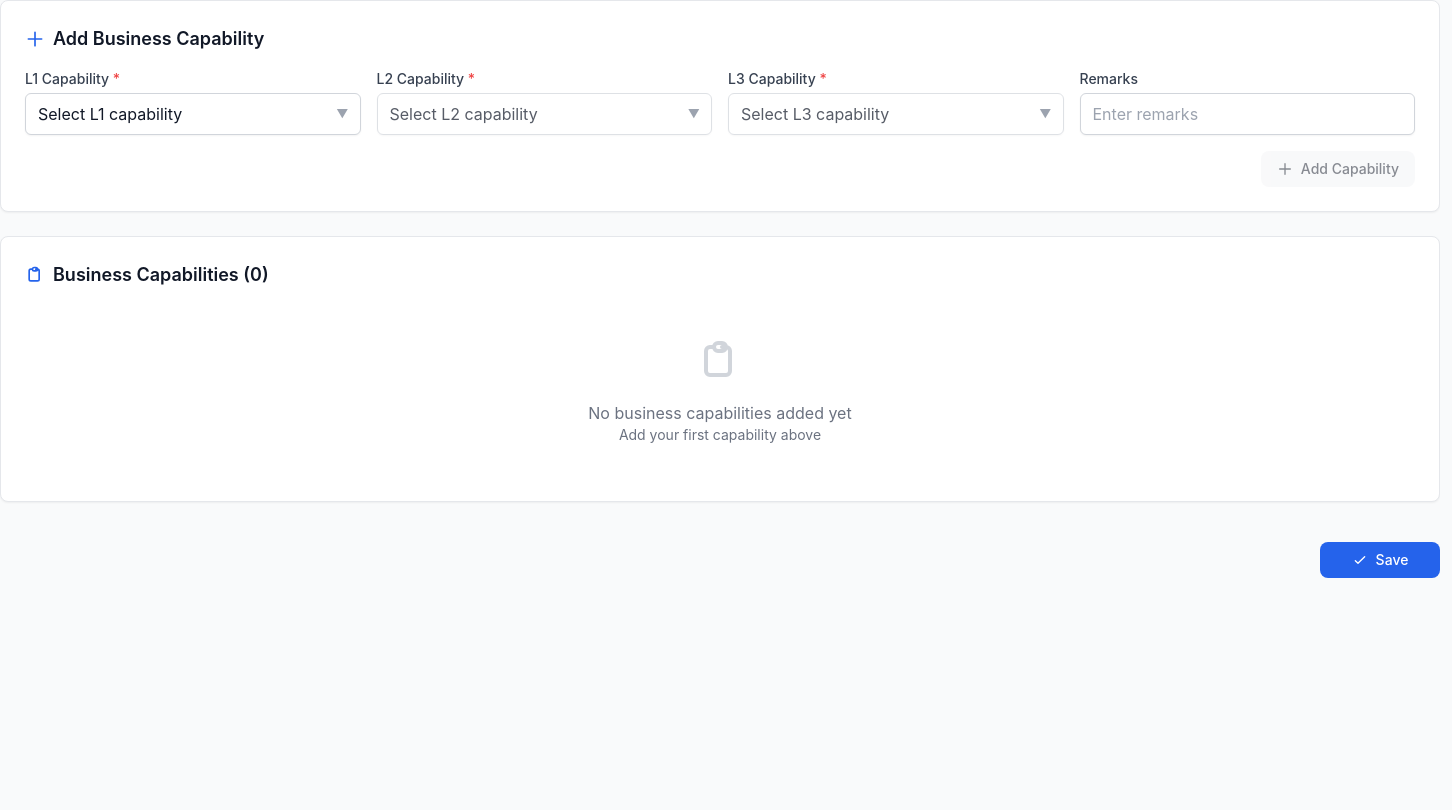
Test: BusinessCapabilitiesStep › Add Capability Functionality › updates count after adding capability
// Add capability
Select "Customer Management" in the dropdown below "L1 Capability" at {"x": 193, "y": 114}, box [25,93,360,135]
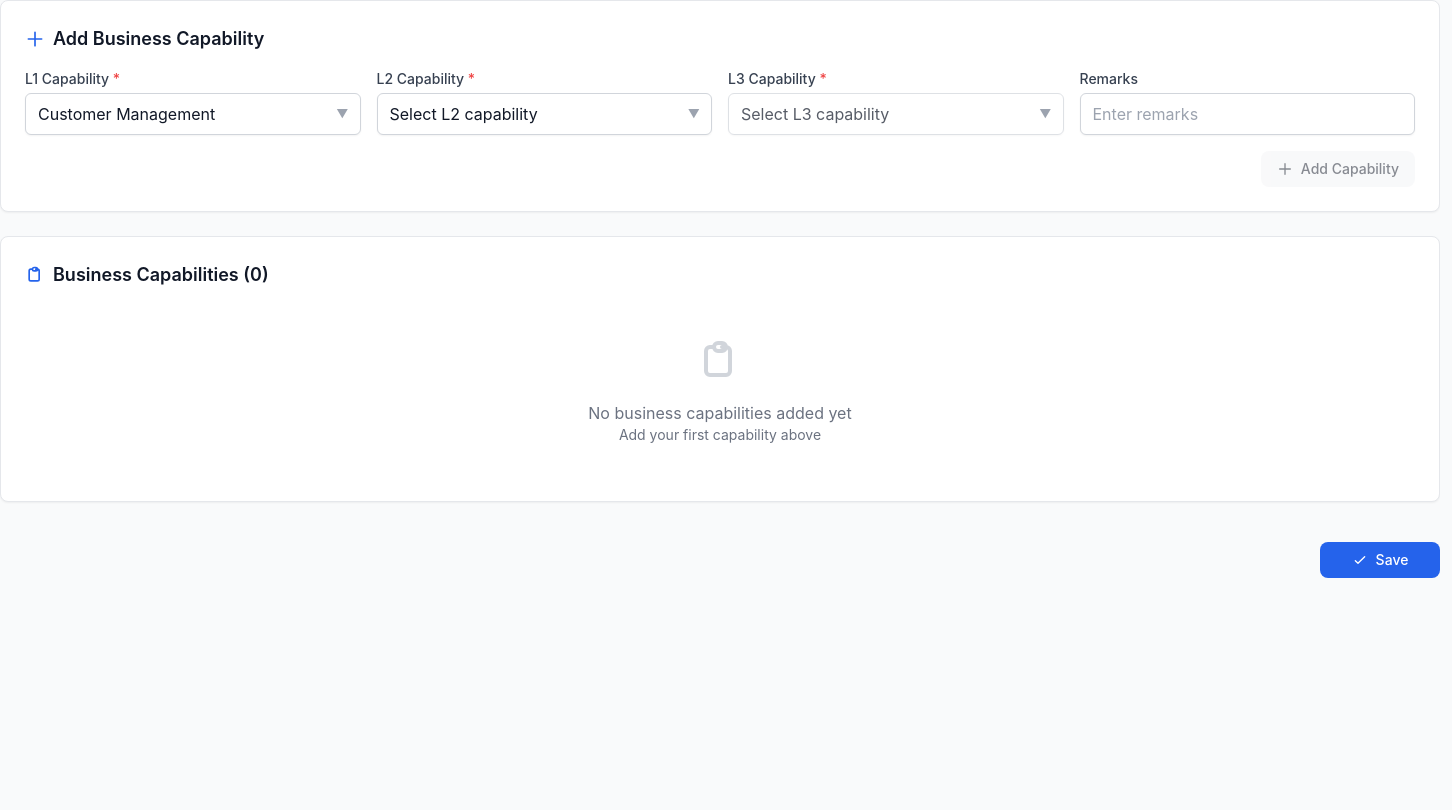
Select "Customer Onboarding" in the dropdown below "L2 Capability" at {"x": 544, "y": 114}, box [376,93,712,135]
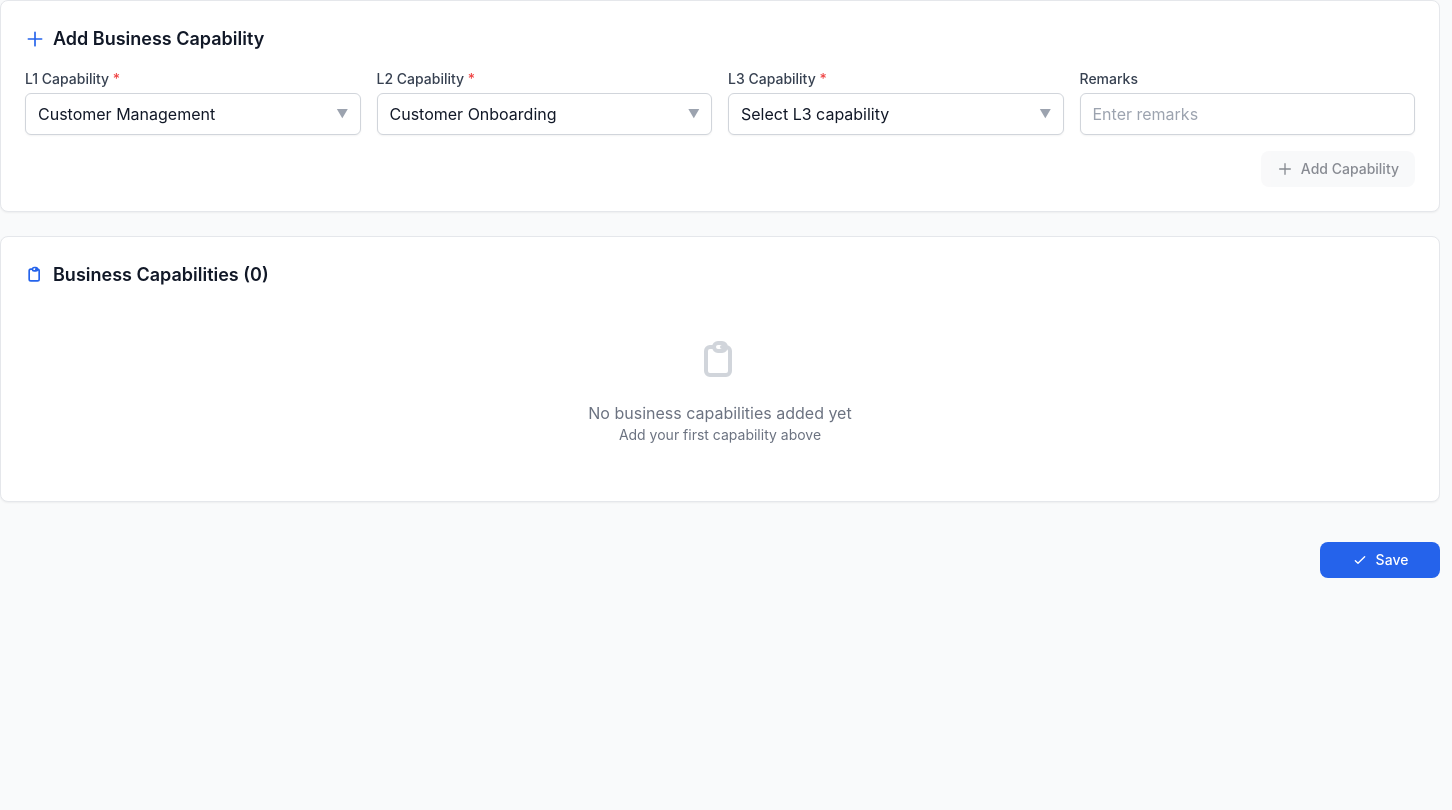
Select "Digital Registration" in the dropdown below "L3 Capability" at {"x": 896, "y": 114}, box [728,93,1064,135]
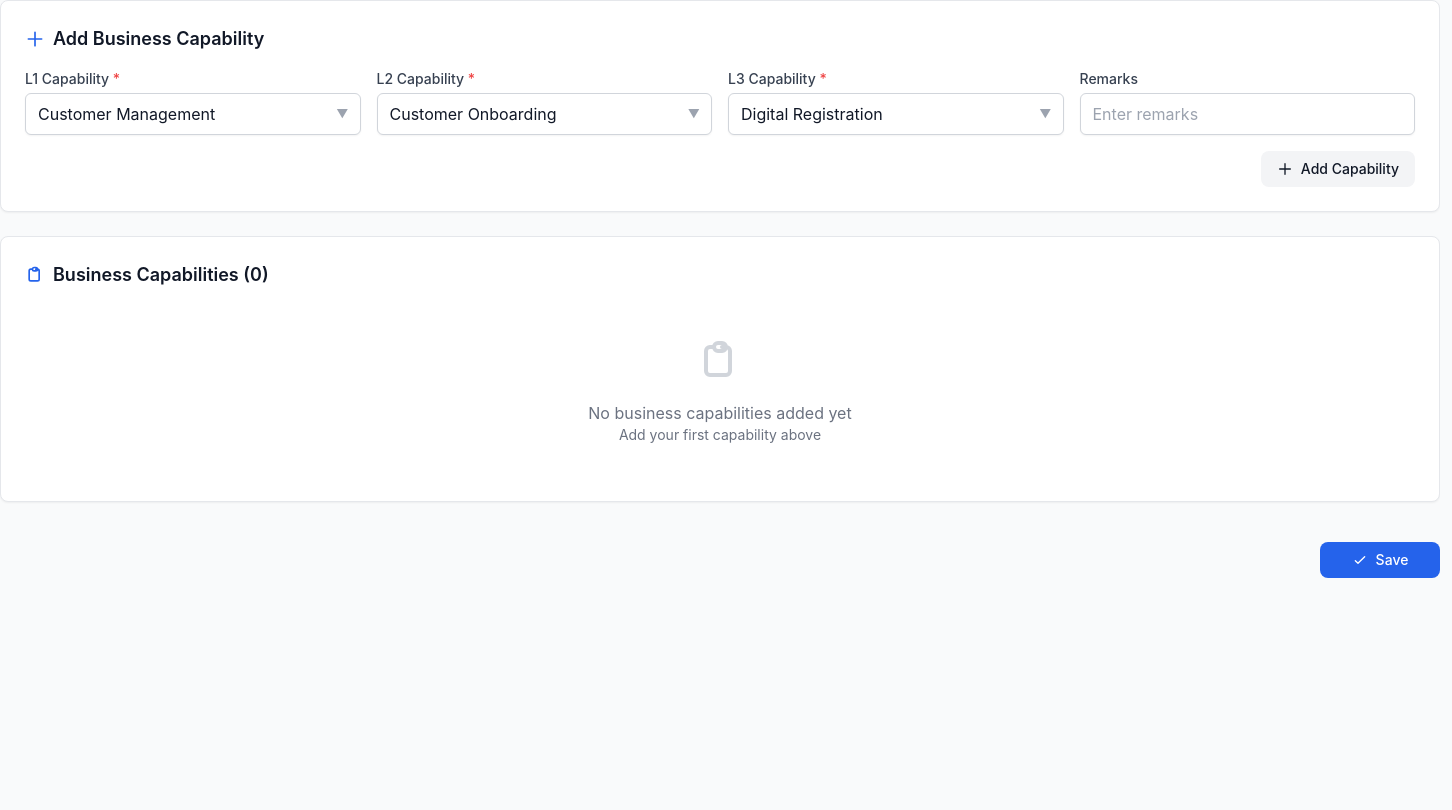
Click the button "Add Capability" at {"x": 1338, "y": 169}, box [1261,151,1415,187]
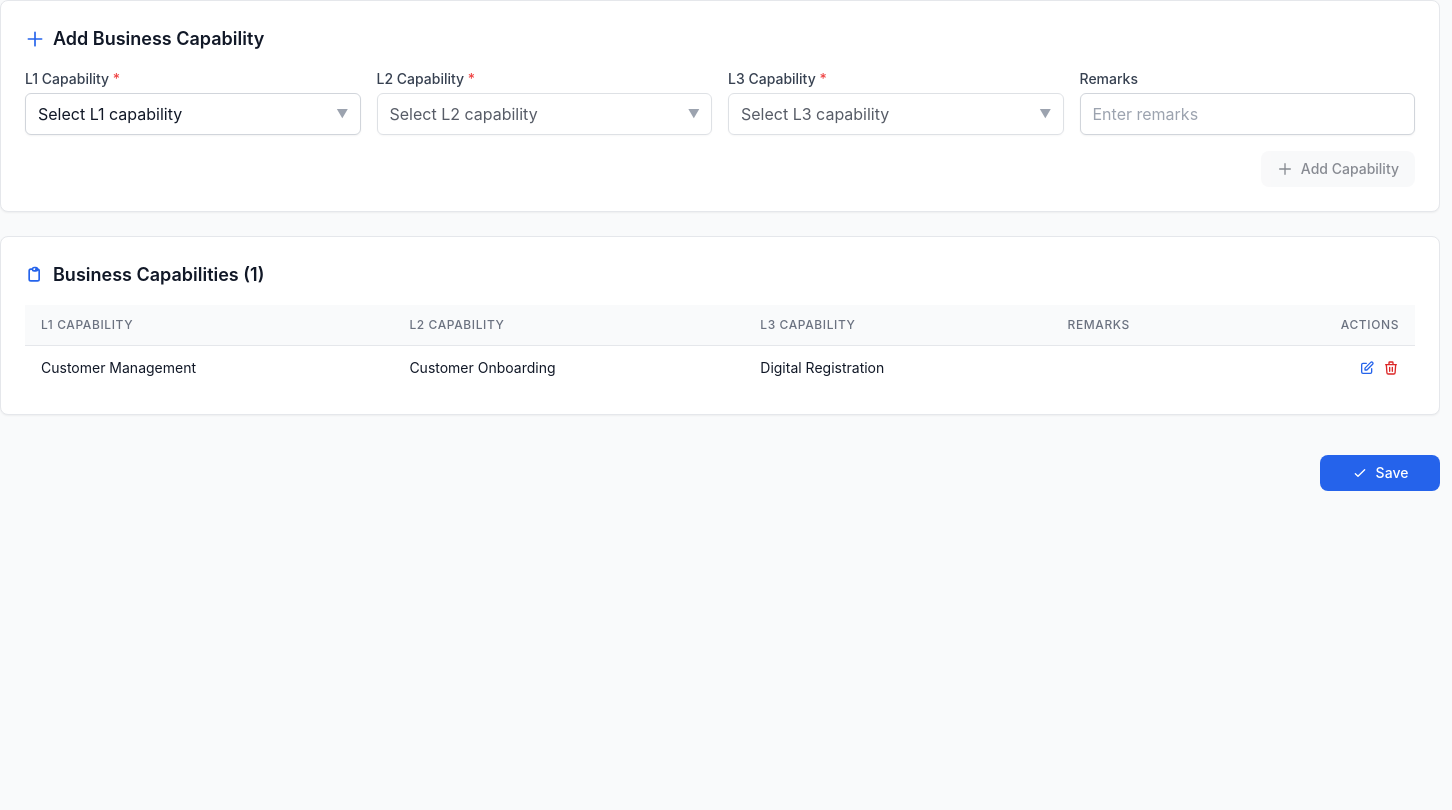
Check: the text "Business Capabilities (1)" is shown, box [25,261,264,289]
